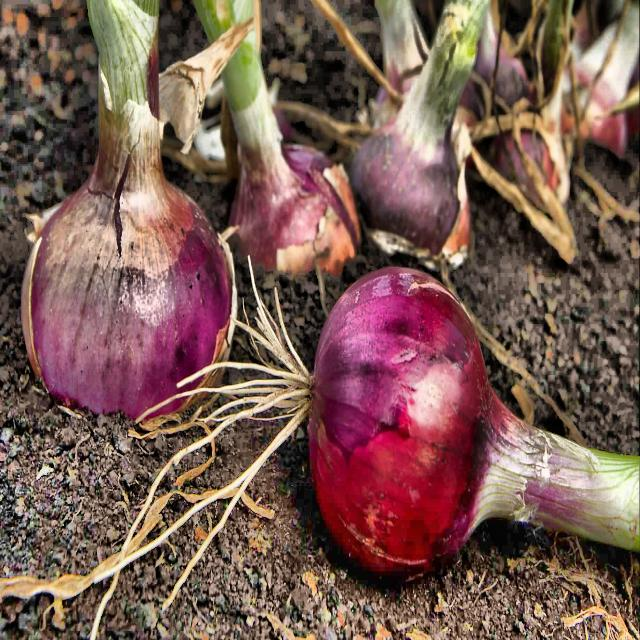onion: (209, 233, 640, 623), (186, 209, 456, 450), (28, 99, 185, 190)
